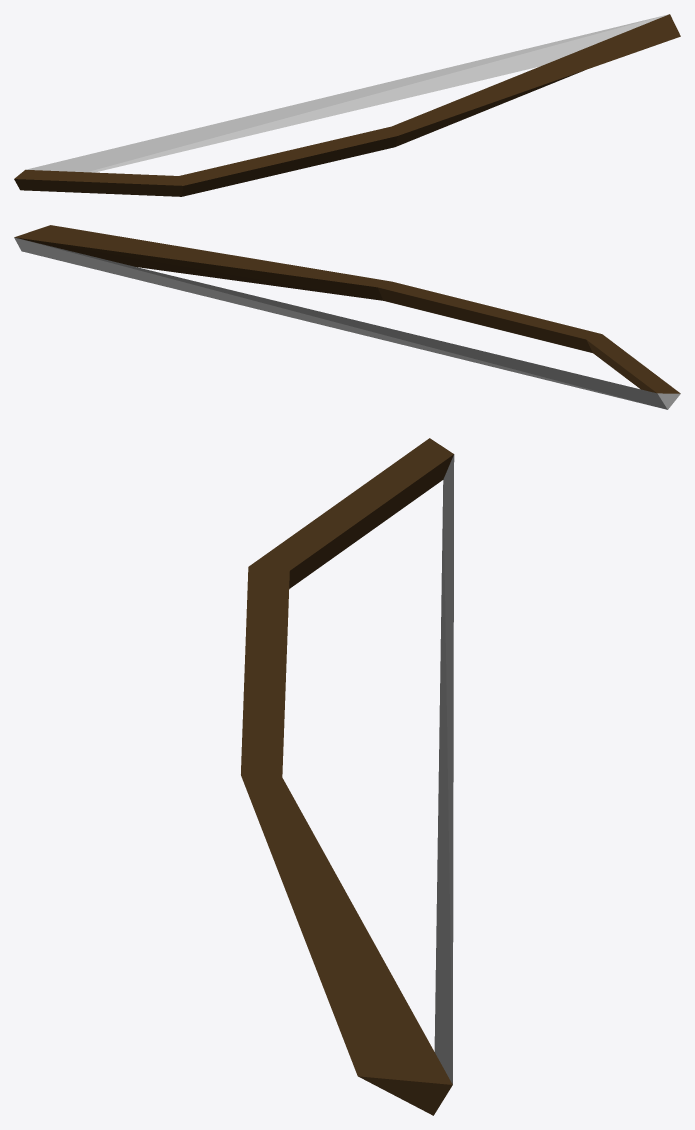
The model's file is ITMI_CELLOBOW_01.OBJ.
3 views of the same model, one above another, from view 1: azimuth 30°, elevation 25°; view 2: azimuth 150°, elevation 25°; view 3: azimuth 270°, elevation 25° (orthographic). The views are drawn at different scales.
Parts seen in each view (by area): view 1: ITMI_CELLOBOW_01; view 2: ITMI_CELLOBOW_01; view 3: ITMI_CELLOBOW_01.
Boxes of the visible parts, left/top/right/bottom form: ITMI_CELLOBOW_01: left=14, top=14, right=680, bottom=196; ITMI_CELLOBOW_01: left=14, top=225, right=680, bottom=409; ITMI_CELLOBOW_01: left=241, top=438, right=454, bottom=1115.
Size of the model in its own units: 0.7898 by 0.0239 by 0.1104.
